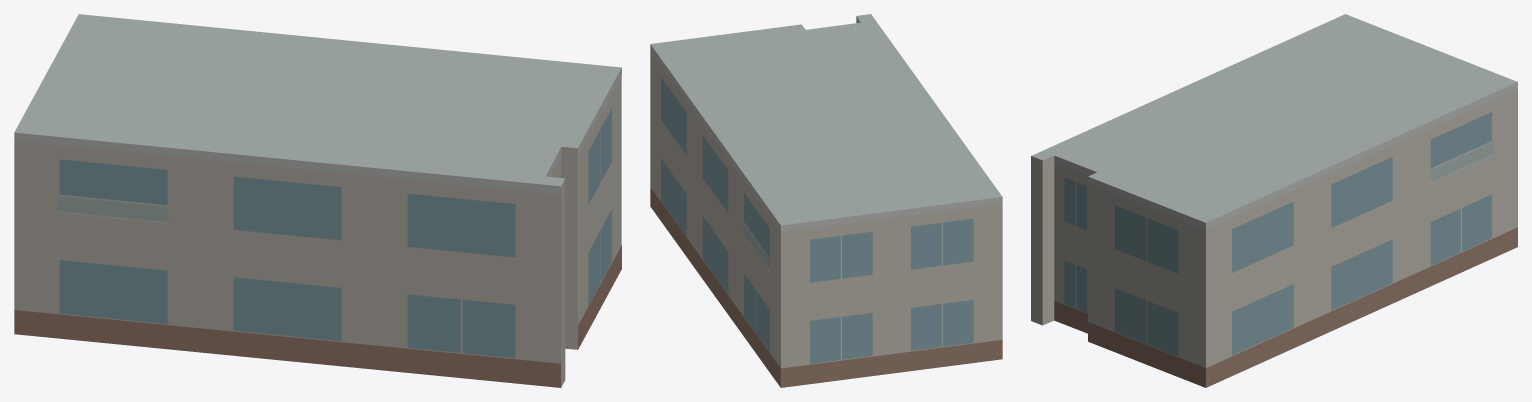
The model's file is survey-upis-32711257.glb.
3 views of the same model, side by side, from view 1: azimuth 30°, elevation 25°; view 2: azimuth 150°, elevation 25°; view 3: azimuth 270°, elevation 25° (orthographic). The views are drawn at different scales.
Parts seen in each view (by area): view 1: survey-upis-32711257.tmp; view 2: survey-upis-32711257.tmp; view 3: survey-upis-32711257.tmp.
Part boxes in pixels (x1=…): survey-upis-32711257.tmp: x1=14, y1=14, x2=621, y2=387; survey-upis-32711257.tmp: x1=650, y1=14, x2=1002, y2=387; survey-upis-32711257.tmp: x1=1031, y1=14, x2=1517, y2=387.
Bounding box in the file's own units: 16.56 × 6.1 × 16.31.
